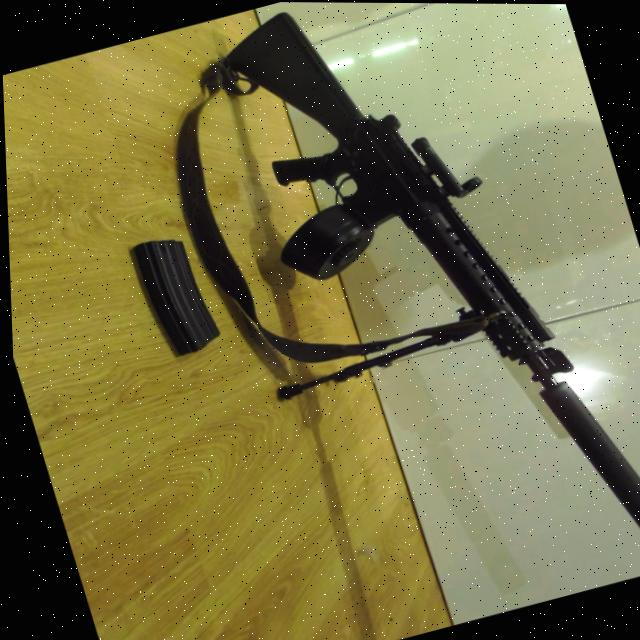firearm: (208, 1, 640, 638)
